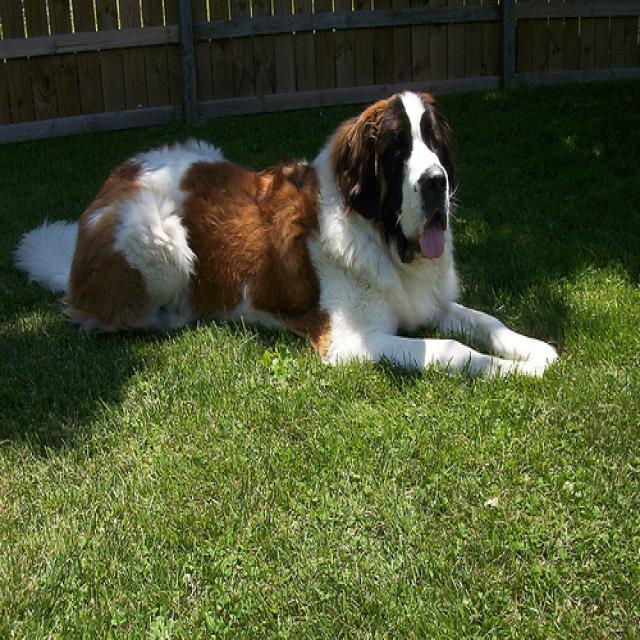dog-saint_bernard: (15, 81, 561, 384)
